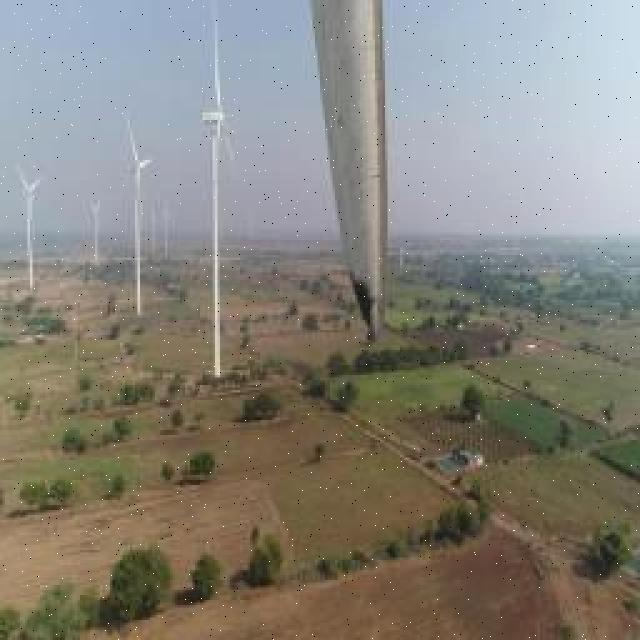Dirt: (311, 2, 383, 336)
Oil LEAKAGE: (350, 272, 385, 340)
